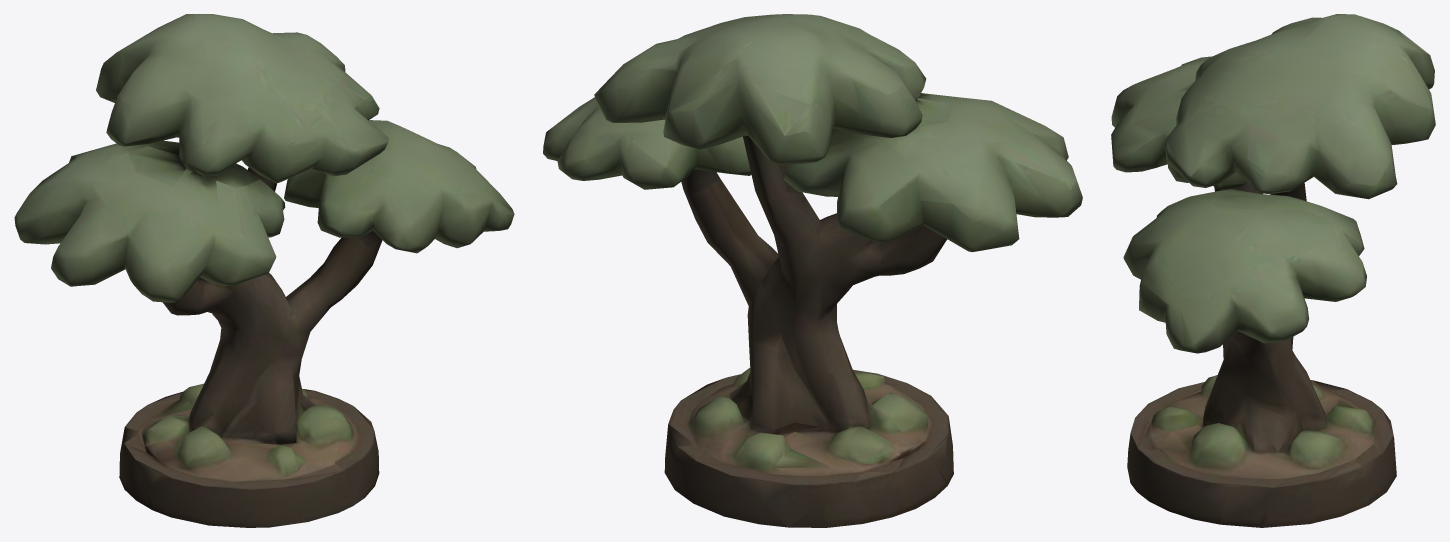
The model's file is maple.glb.
3 views of the same model, side by side, from view 1: azimuth 30°, elevation 25°; view 2: azimuth 150°, elevation 25°; view 3: azimuth 270°, elevation 25° (orthographic). The views are drawn at different scales.
Visible parts, largest first — view 1: tripo_node_a6e6936b-3016-4672-a3ba-df860a93758e; view 2: tripo_node_a6e6936b-3016-4672-a3ba-df860a93758e; view 3: tripo_node_a6e6936b-3016-4672-a3ba-df860a93758e.
Boxes of the visible parts, left/top/right/bottom form: tripo_node_a6e6936b-3016-4672-a3ba-df860a93758e: left=14, top=14, right=514, bottom=527; tripo_node_a6e6936b-3016-4672-a3ba-df860a93758e: left=543, top=14, right=1082, bottom=527; tripo_node_a6e6936b-3016-4672-a3ba-df860a93758e: left=1111, top=14, right=1435, bottom=527.
Bounding box in the file's own units: 0.9791 × 0.8782 × 0.59.
1 material, 1 textured.
